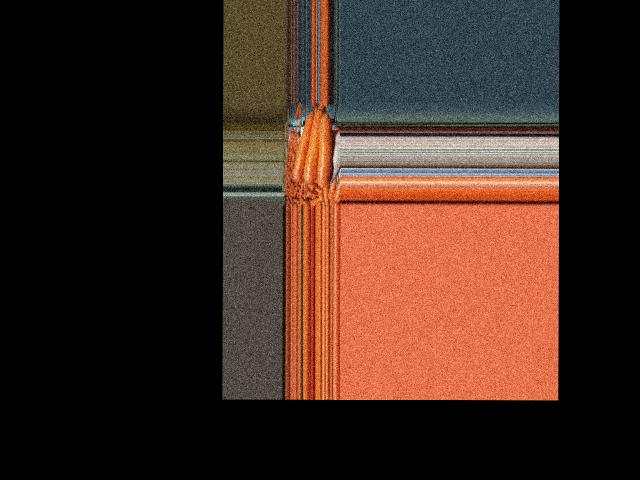carrot: (313, 111, 331, 189)
